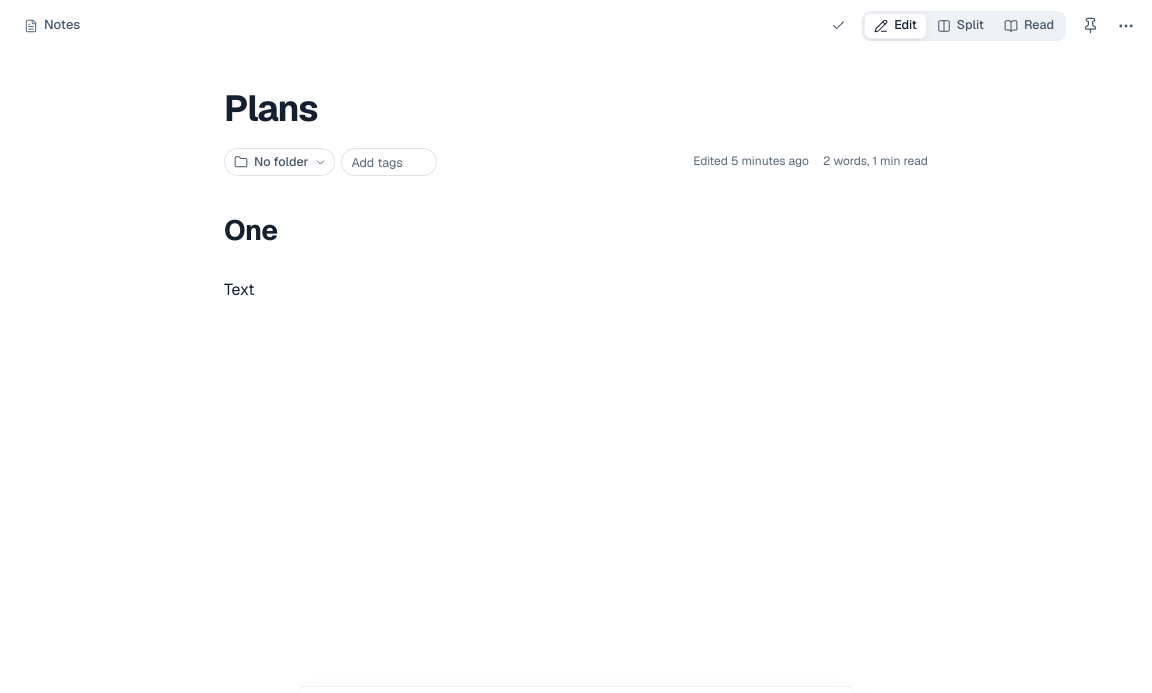
Test case: Edit, Split and Read › switches with the View buttons, offering Split only on a wide screen
Later steps or results of the test are not shown.
Click the radio button labelled "Read" at (1029, 26), box [994,12,1064,38]
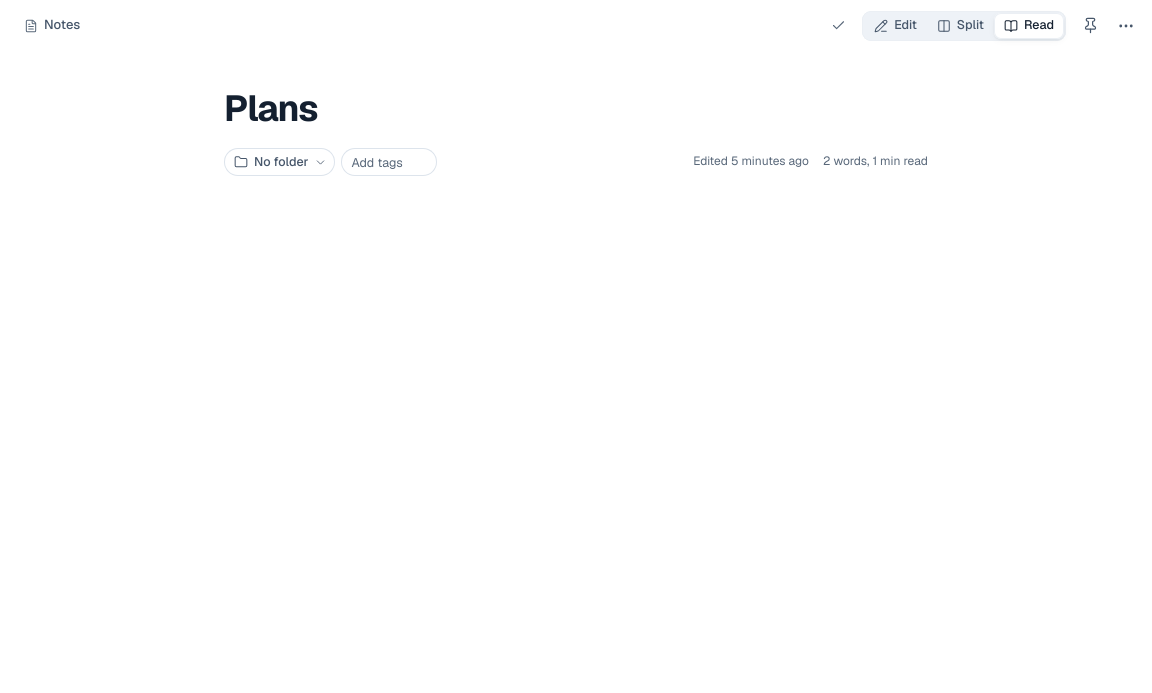
Result: the element with class "cm-editor" is gone
